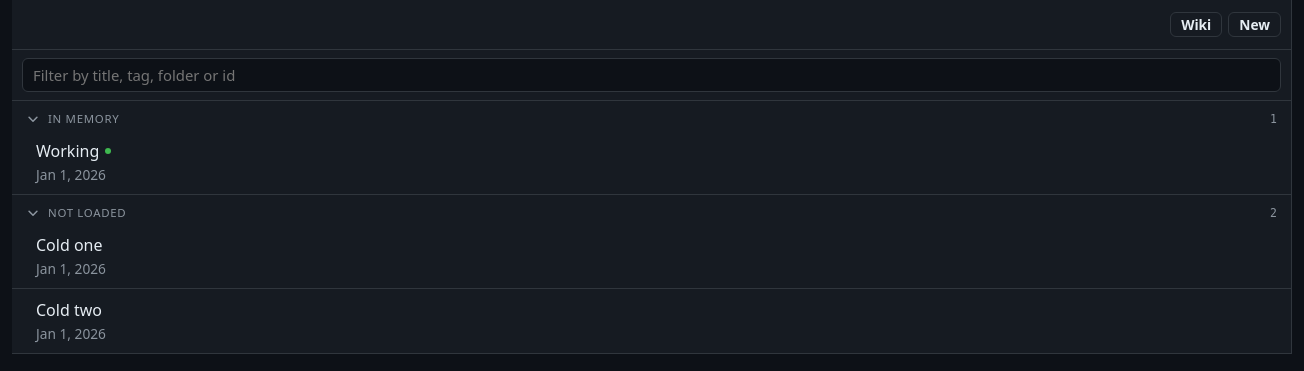
Test: folding a group › hides the sessions in a group that is folded
Click the button "Not loaded 2" at (87, 212), box [12, 201, 1291, 224]
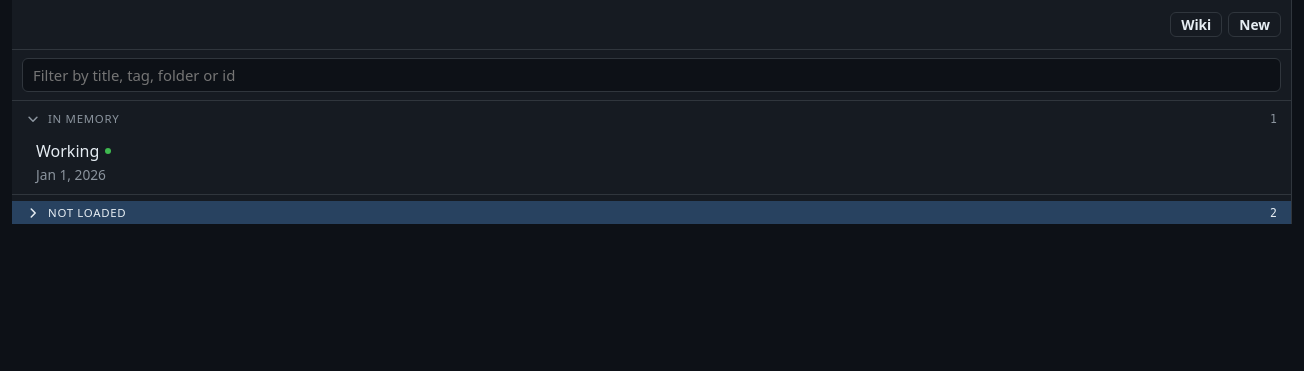
Expected: the text "Working" is shown, [36, 140, 111, 162]
Expected: the button "Cold one" is gone
Expected: the button "Cold two" is gone
